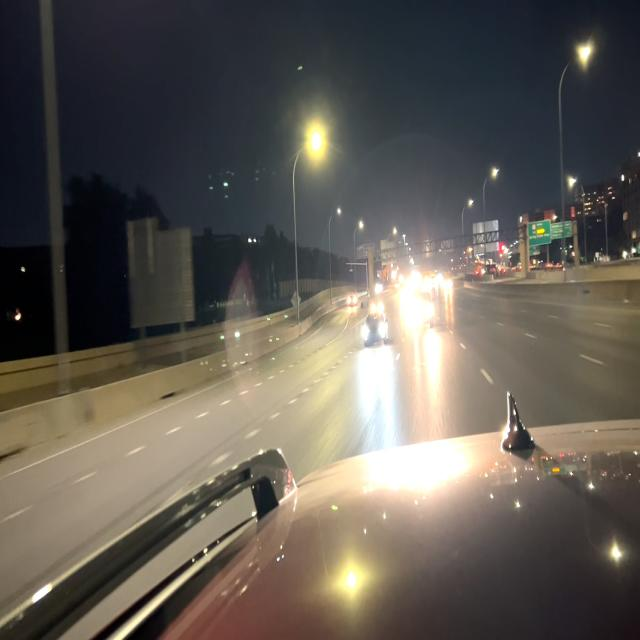back-of-sign: (472, 219, 499, 259), (379, 236, 399, 265), (440, 235, 455, 257)
